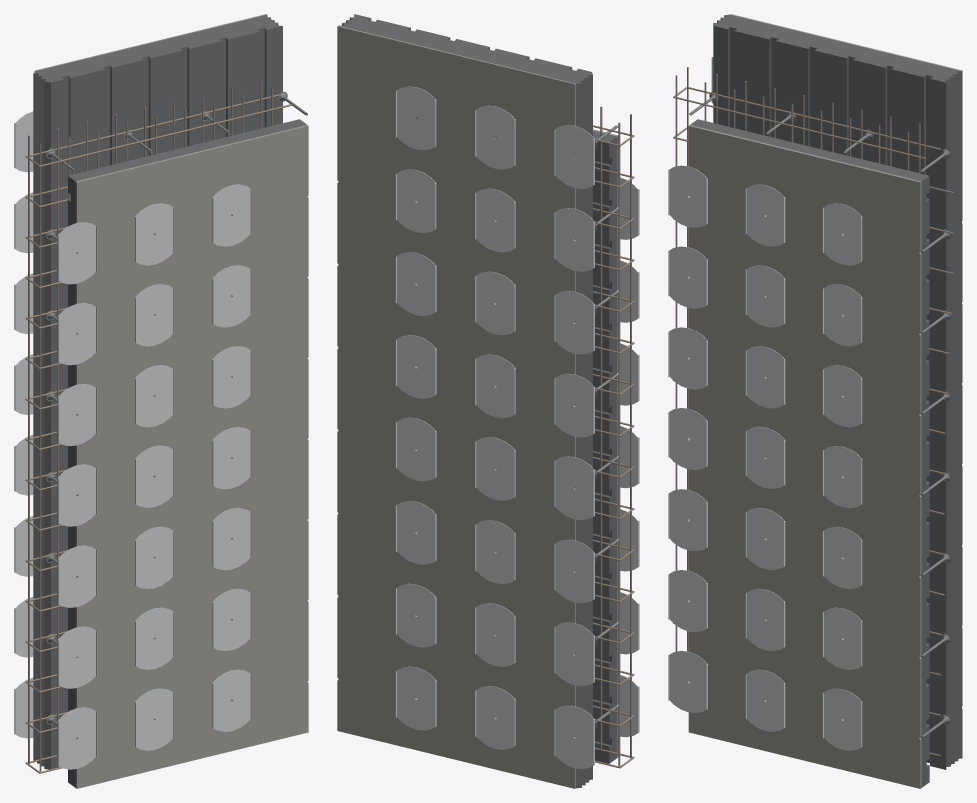
The model's file is mbk-cofraj-v4.glb.
3 renders of one model, left to right at view 1: azimuth 30°, elevation 25°; view 2: azimuth 150°, elevation 25°; view 3: azimuth 330°, elevation 25°, orthographic. The views are drawn at different scales.
Parts seen in each view (by area): view 1: Cofraj; view 2: Cofraj; view 3: Cofraj.
Part boxes in pixels (left/top/right/bottom): Cofraj: left=14, top=14, right=308, bottom=788; Cofraj: left=337, top=14, right=639, bottom=788; Cofraj: left=668, top=14, right=962, bottom=788.
Size of the model in its own units: 1.38 by 3.4 by 0.4.
